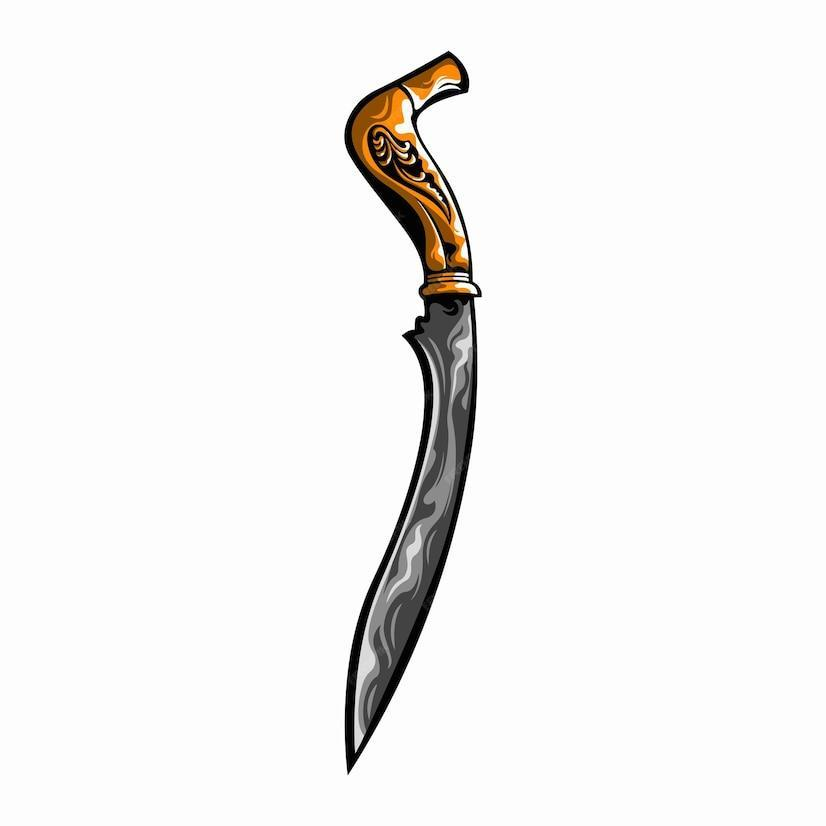facao: (345, 52, 481, 771)
